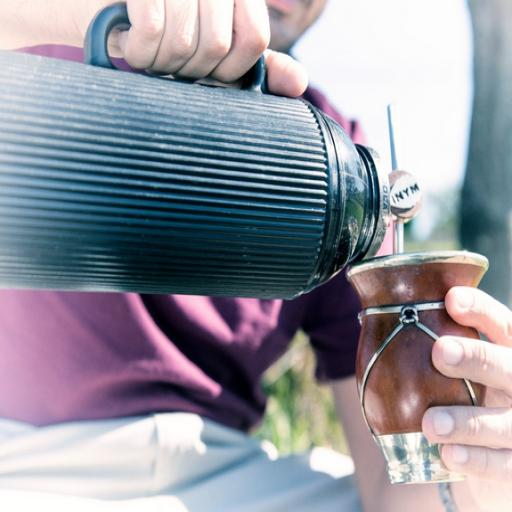mate: (348, 252, 487, 484)
termo: (0, 5, 390, 298)
